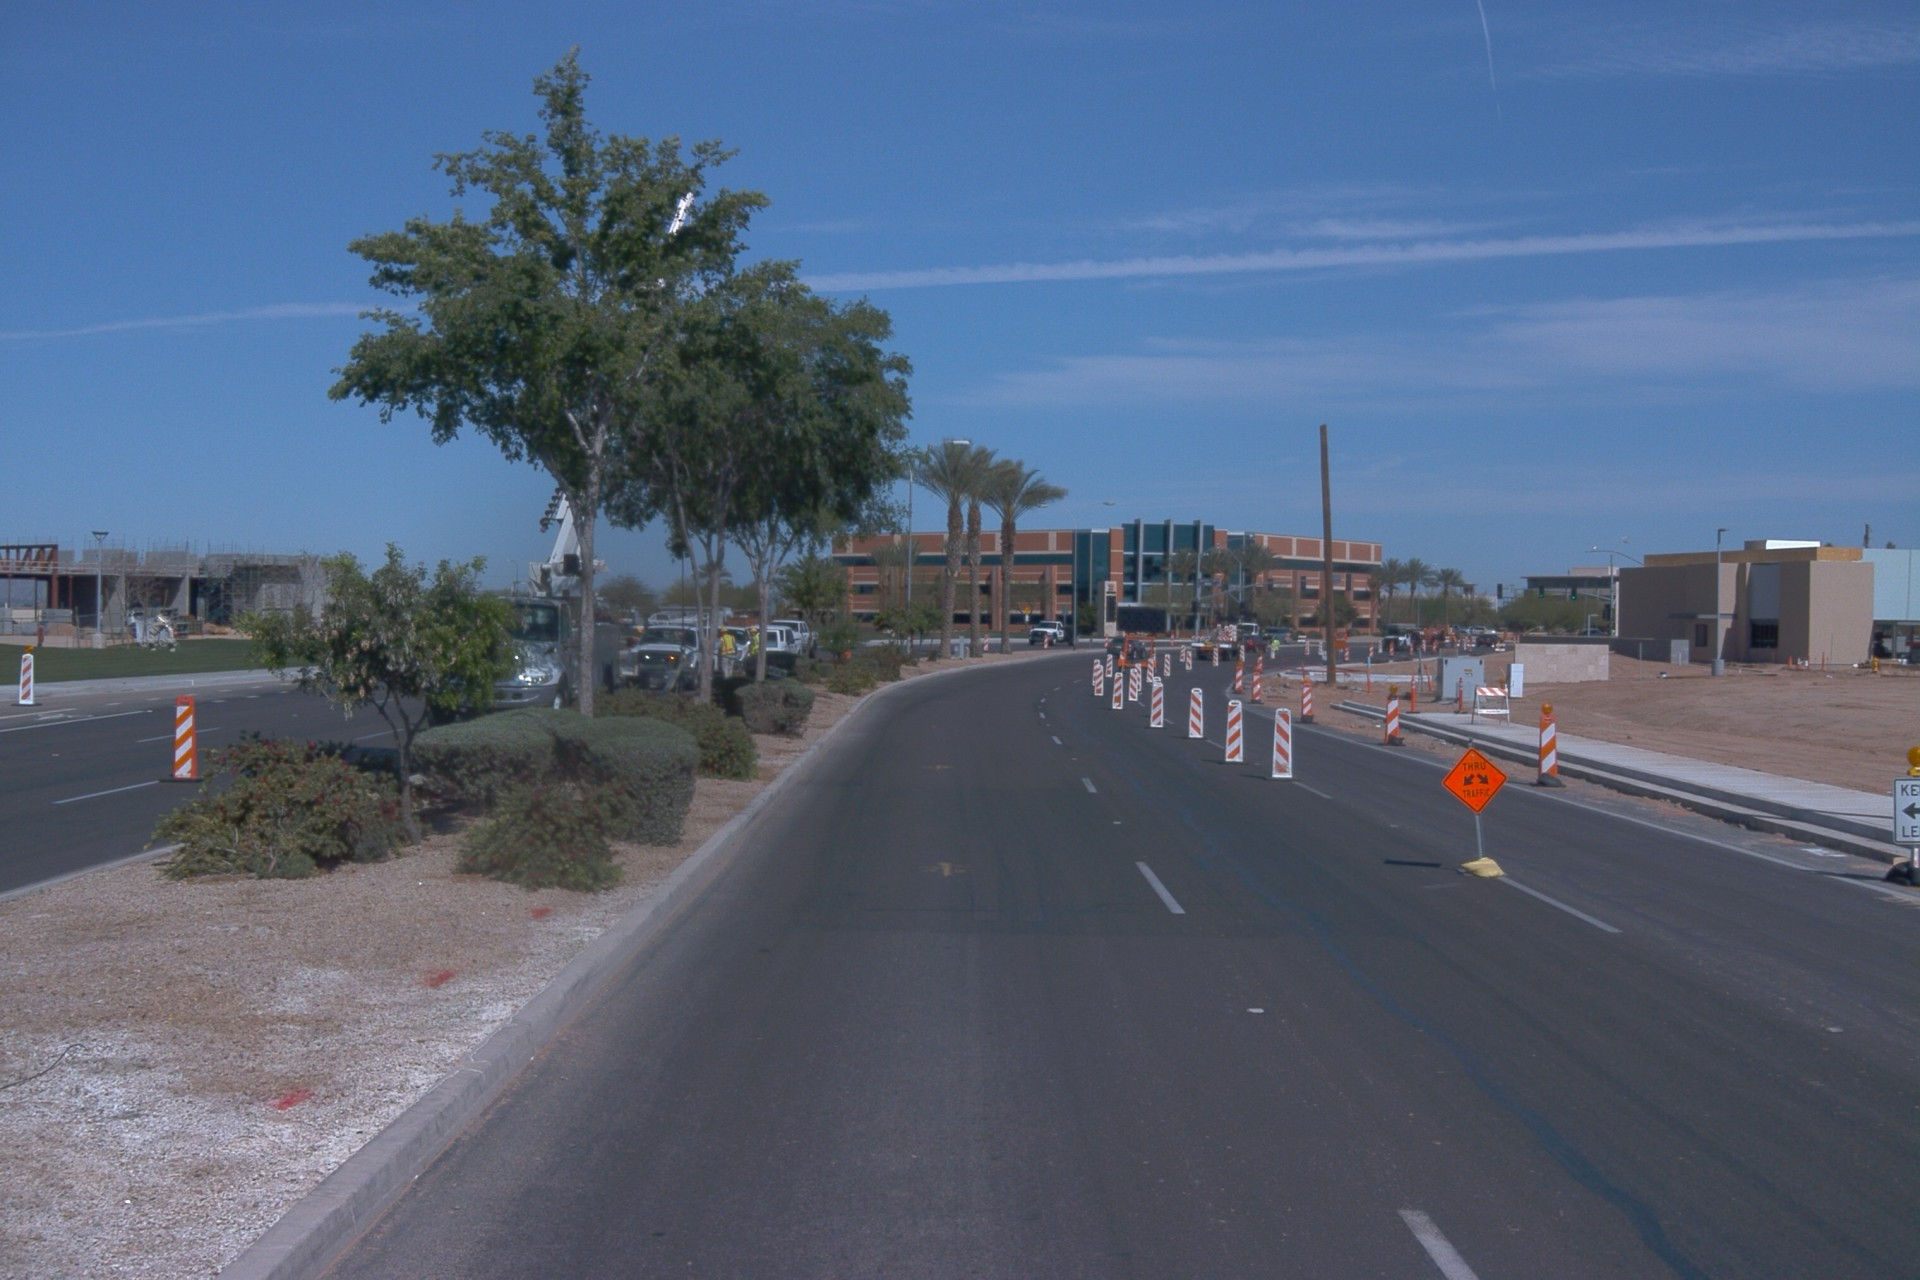TYPE_PEDESTRIAN: (712, 627, 741, 681), (745, 628, 761, 658), (1273, 634, 1281, 661)
TYPE_VEHICLE: (409, 174, 710, 735), (649, 522, 795, 703), (614, 617, 723, 688), (1109, 599, 1171, 689), (1189, 615, 1263, 664), (625, 599, 714, 639), (1376, 622, 1473, 656), (705, 625, 758, 685), (1024, 612, 1085, 646), (760, 624, 805, 666), (769, 620, 818, 658), (1236, 622, 1283, 648), (1104, 635, 1147, 662), (1238, 631, 1267, 655), (1264, 626, 1293, 645), (125, 610, 144, 630)
